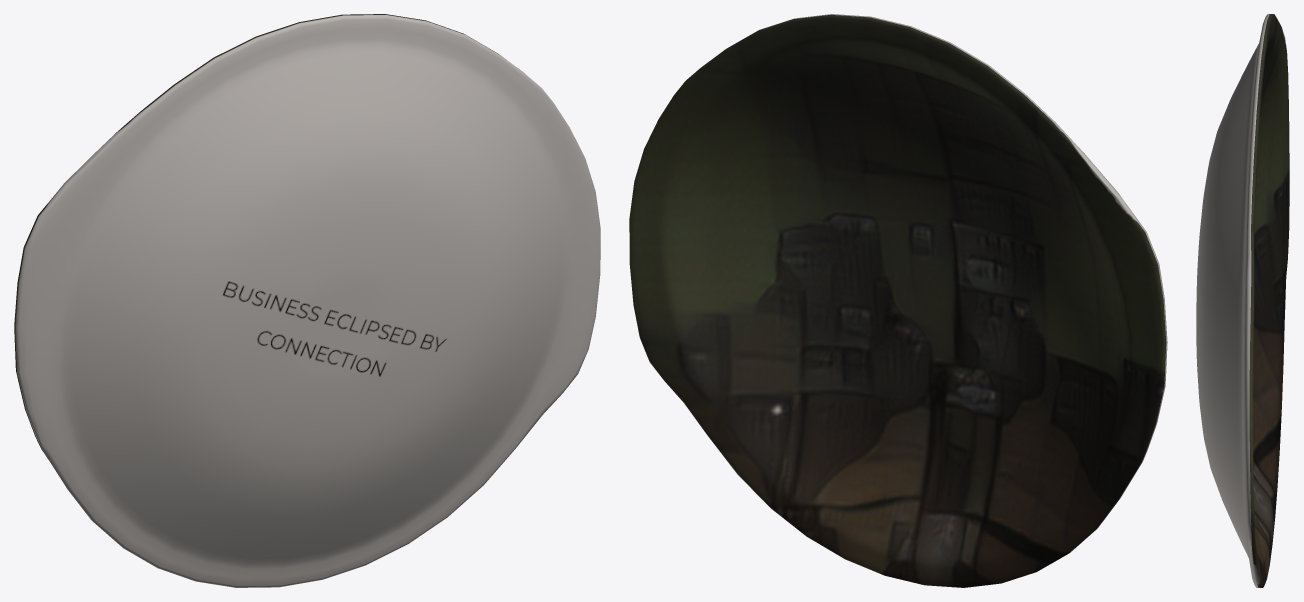
The picture shows the model from 3 angles, left to right: view 1: azimuth 30°, elevation 25°; view 2: azimuth 150°, elevation 25°; view 3: azimuth 270°, elevation 25°; orthographic projection. The views are drawn at different scales.
Parts seen in each view (by area): view 1: bluewhitered39:_bluewhitered_39_remodel1 group; view 2: bluewhitered39:_bluewhitered_39_remodel1 group; view 3: bluewhitered39:_bluewhitered_39_remodel1 group.
Boxes of the visible parts, <box> form: bluewhitered39:_bluewhitered_39_remodel1 group: <box>14,14,600,587</box>; bluewhitered39:_bluewhitered_39_remodel1 group: <box>629,14,1167,587</box>; bluewhitered39:_bluewhitered_39_remodel1 group: <box>1196,14,1289,587</box>.
Size of the model in its own units: 8.8 by 8.37 by 1.36.
1 material, 1 textured.
